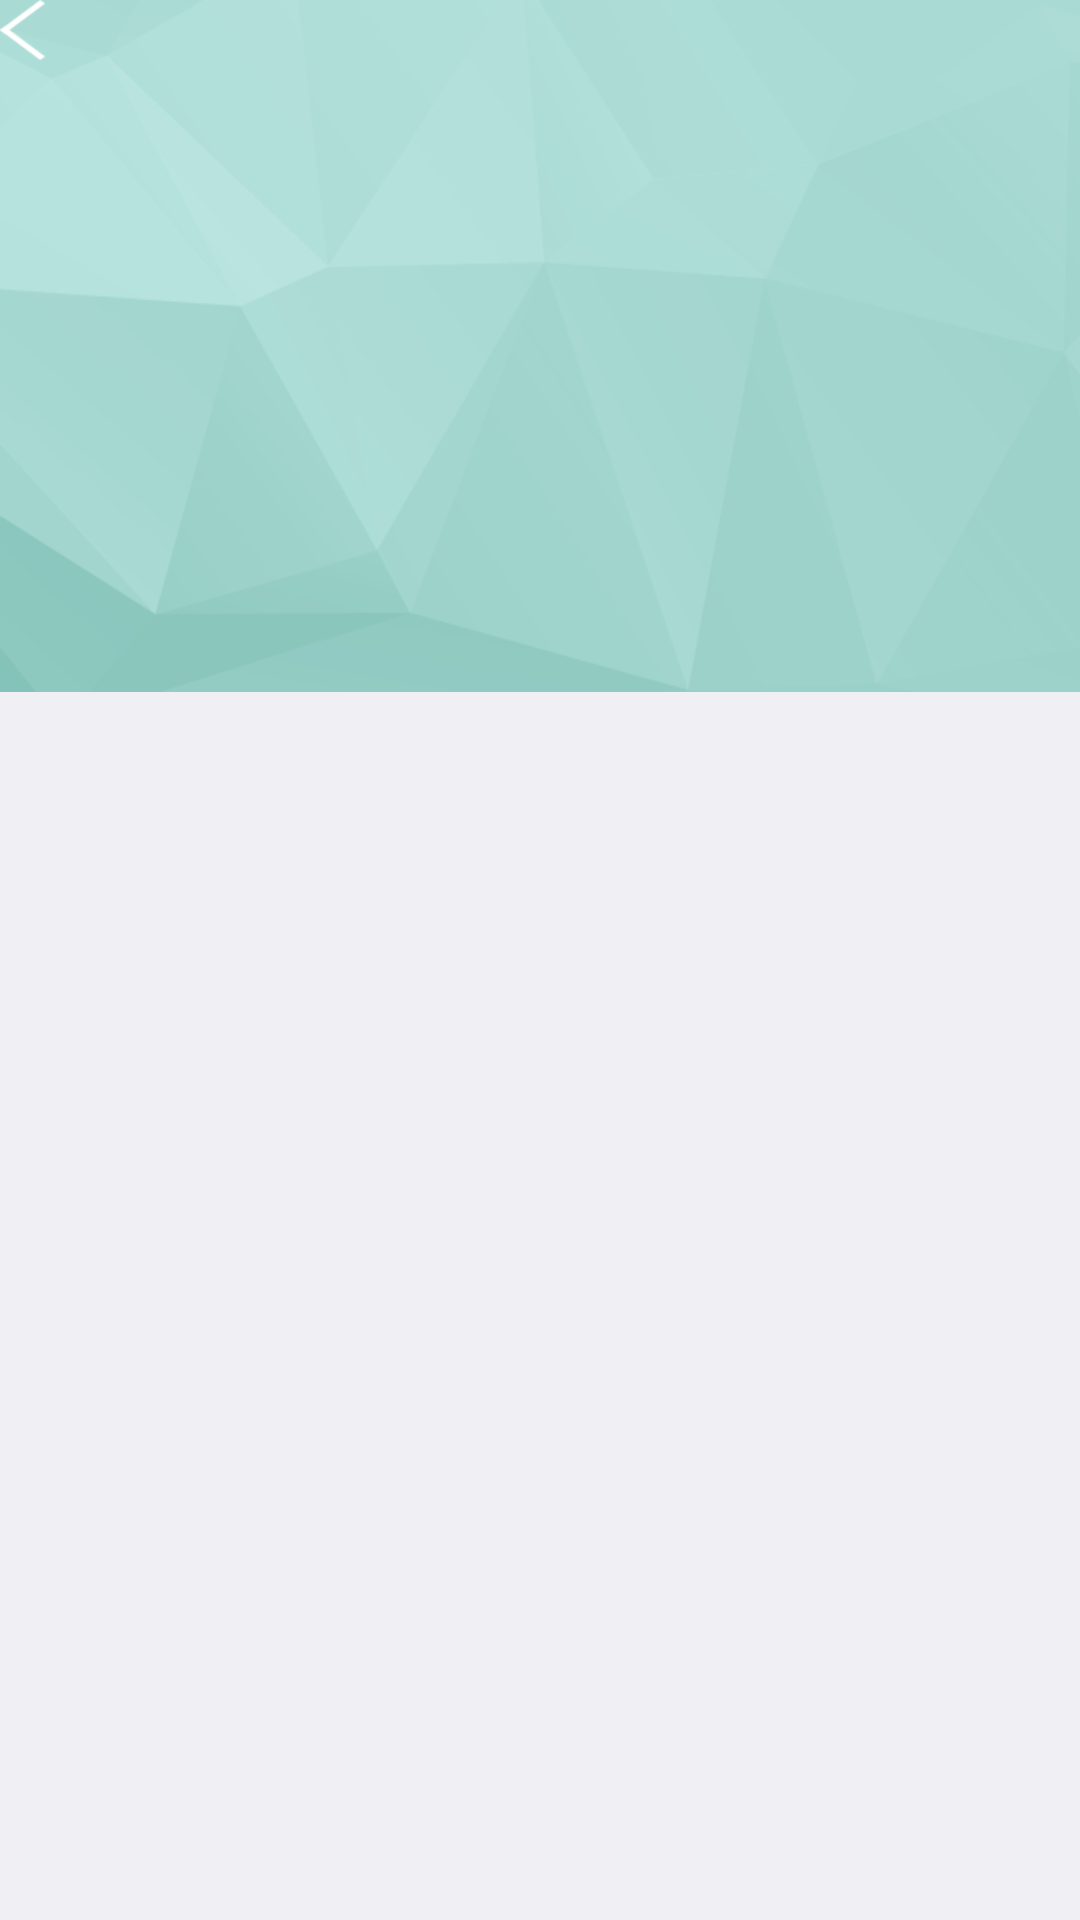

Icon bounding boxes for this 1080×1920 phone screenshot, format (x1,y1,x2,y2):
back: (0,0,45,60)
